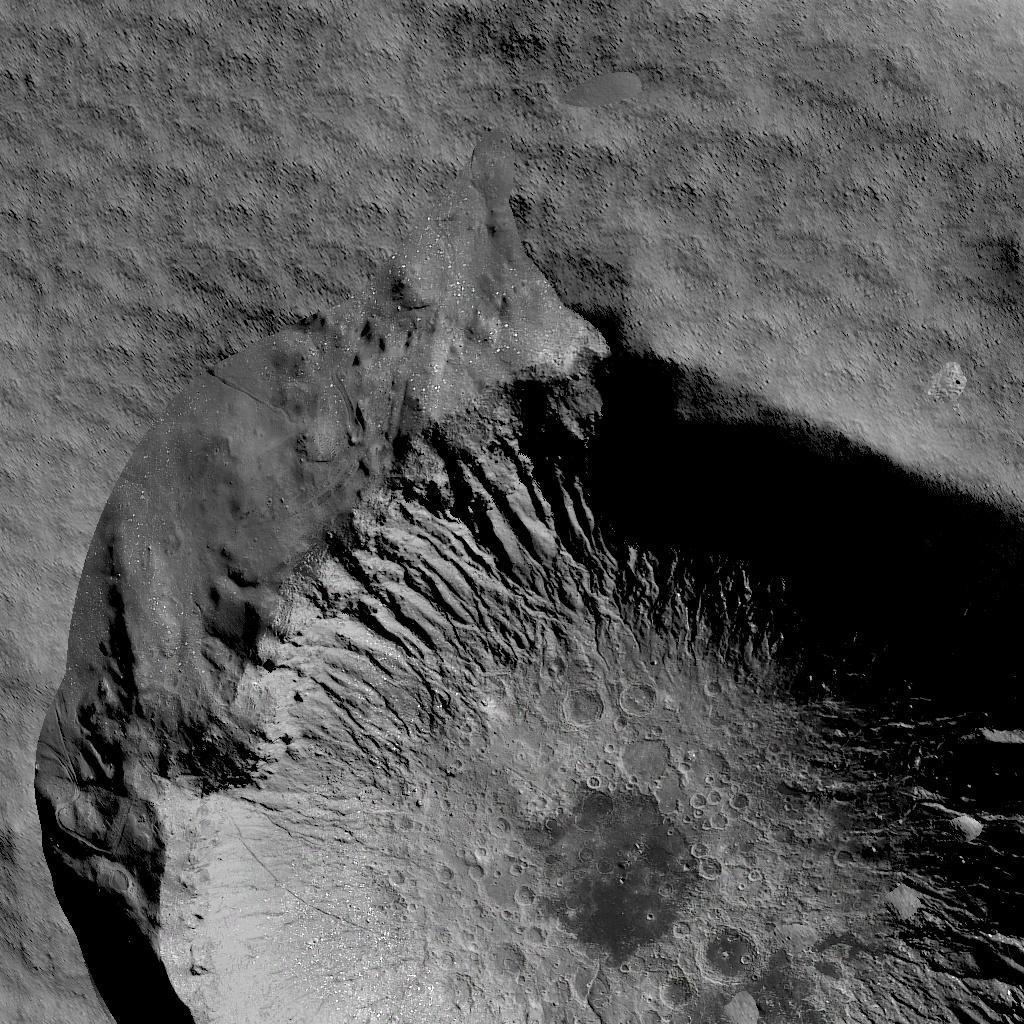Crater: (0, 220, 1024, 1020)
Plan surface: (14, 5, 1024, 176)
